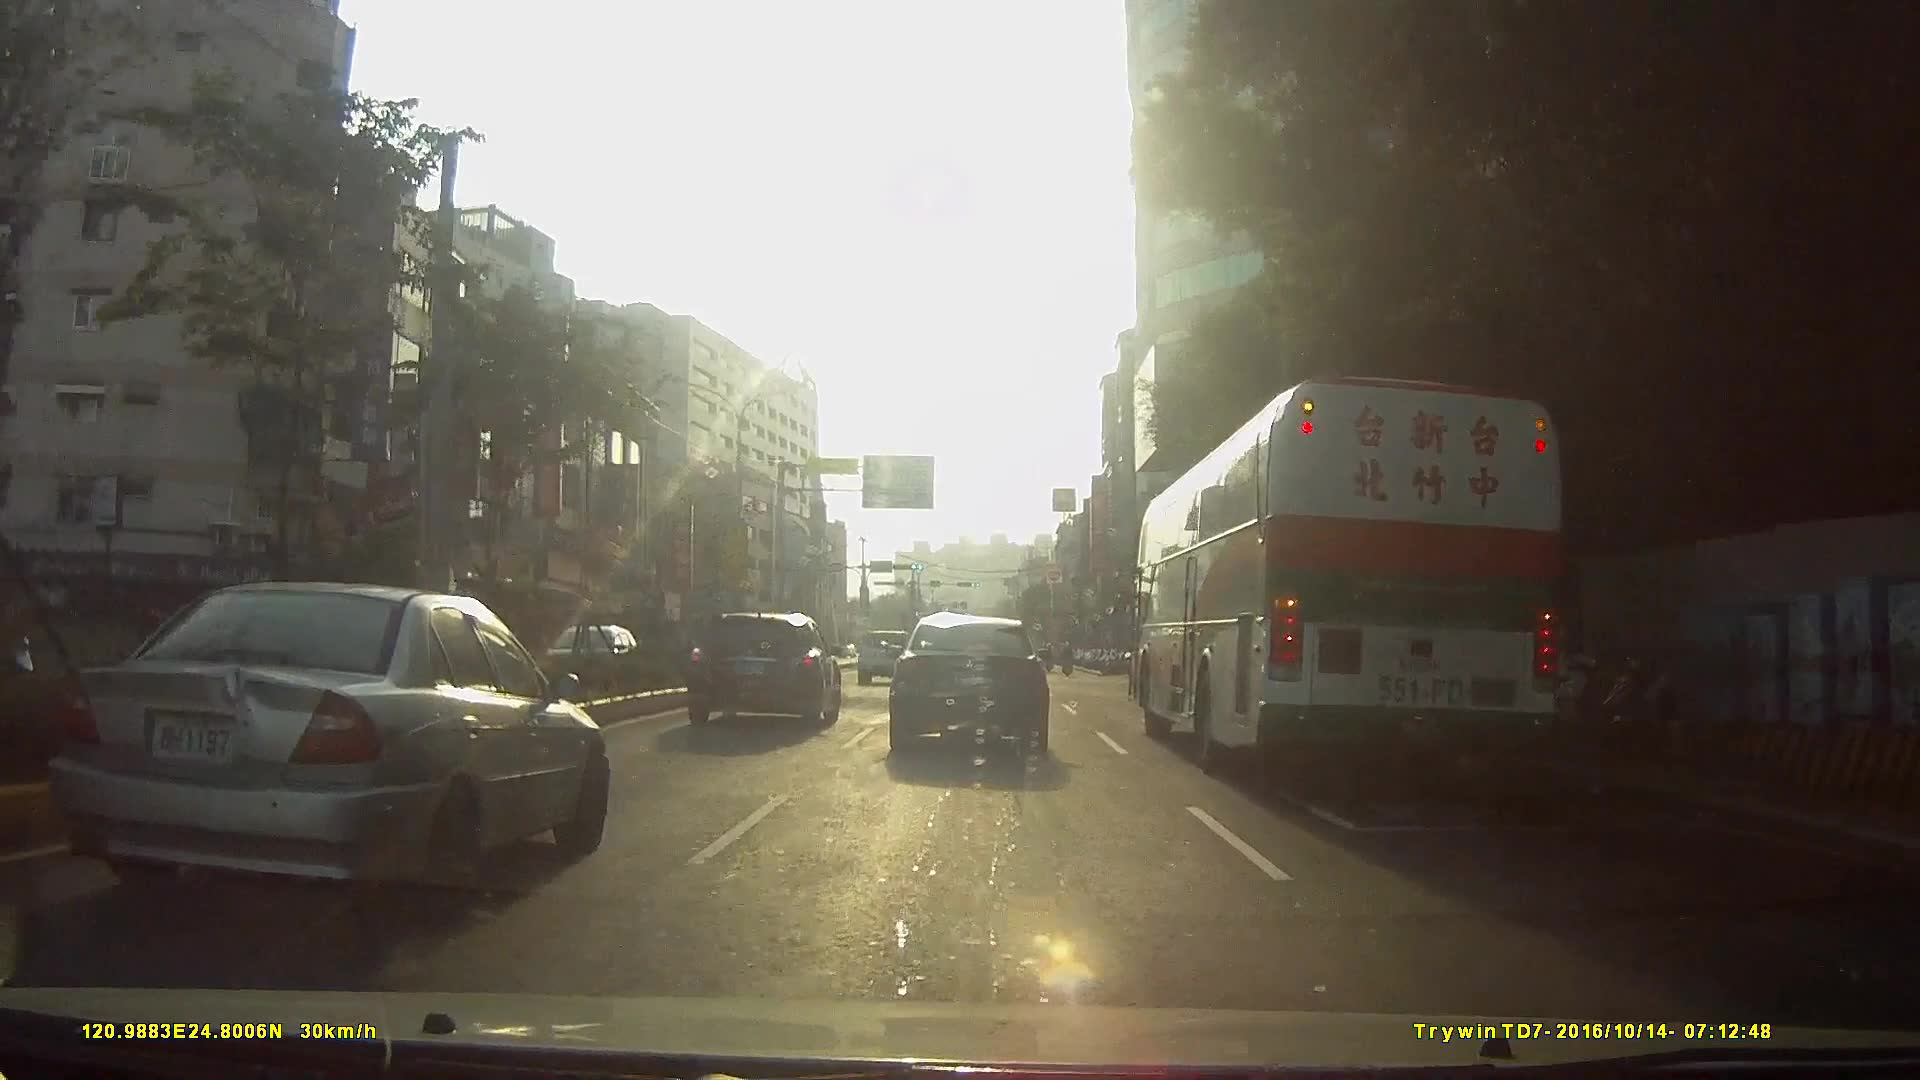vehicle: (1124, 330, 1636, 789), (42, 574, 611, 924), (886, 607, 1051, 754), (684, 609, 841, 727), (856, 625, 914, 683)
